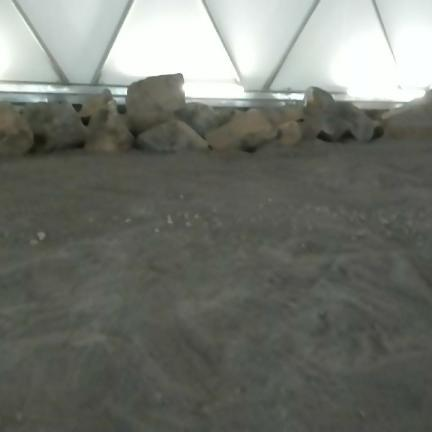Rock: (126, 74, 185, 134), (22, 102, 88, 152), (205, 109, 278, 152), (382, 90, 431, 140), (85, 101, 133, 152), (303, 87, 347, 141), (136, 120, 208, 152), (0, 102, 33, 156), (336, 102, 377, 142), (176, 103, 221, 137), (79, 89, 113, 117), (264, 105, 302, 127), (278, 121, 302, 146)
